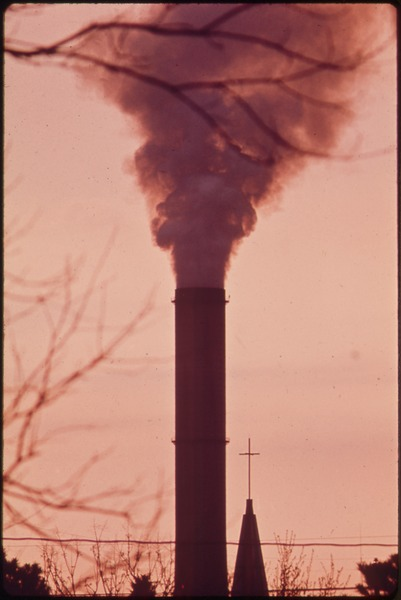dust: (84, 8, 378, 297)
